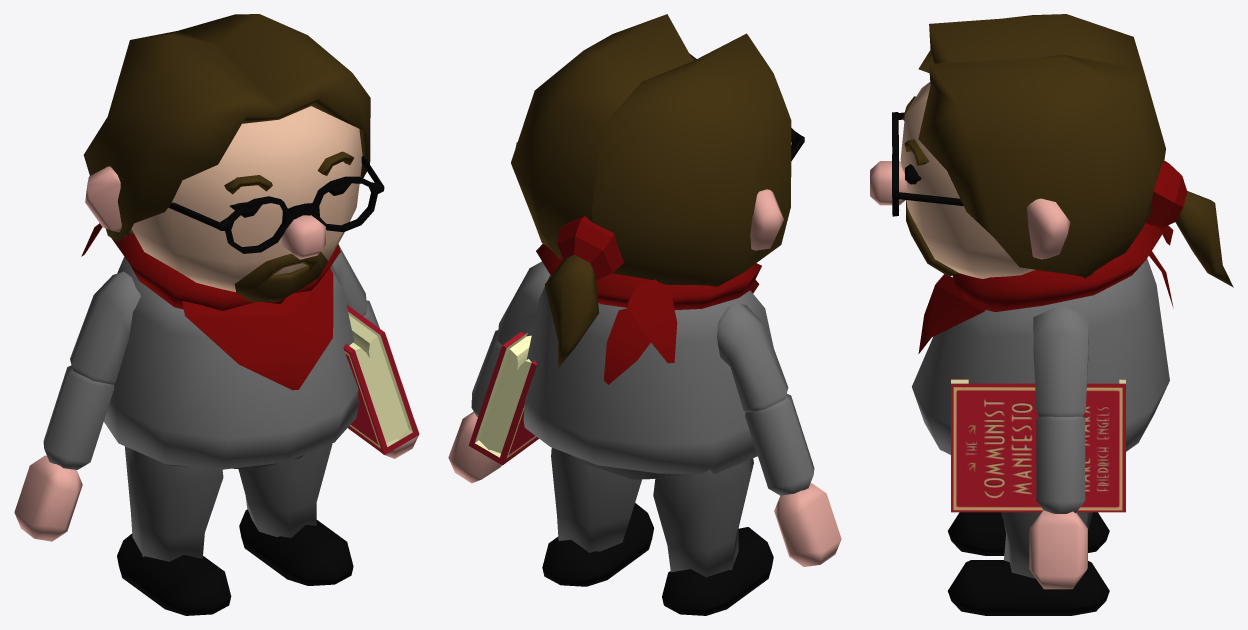
The model's file is CHAR_01_v7.fbx.
3 views of the same model, side by side, from view 1: azimuth 30°, elevation 25°; view 2: azimuth 150°, elevation 25°; view 3: azimuth 270°, elevation 25° (orthographic). The views are drawn at different scales.
Parts seen in each view (by area): view 1: m_cheveux01, m_tronc, m_tete, m_echarpe2, m_jambe_D, m_jambe_G, m_pied_D, m_pied_G, m_bras_D, m_avantbras_D, m_main_D, m_echarpe1 (+7 smaller); view 2: m_cheveux01, m_tronc, m_jambe_D, m_jambe_G, m_bras_D, m_pied_D, m_avantbras_D, m_pied_G, m_main_D, m_cheveux01b, m_echarpe1, book1couv (+9 smaller); view 3: m_cheveux01, m_tronc, book1couv, m_tete, m_pied_G, m_echarpe1, m_bras_G, m_avantbras_G, m_main_G, m_pied_D, m_cheveux01b, m_echarpe2 (+6 smaller).
Part boxes in pixels (x1,y1,x2,y2): m_cheveux01: (83, 14, 370, 242); m_tronc: (104, 257, 358, 469); m_tete: (131, 106, 362, 291); m_echarpe2: (182, 267, 333, 390); m_jambe_D: (124, 446, 223, 561); m_jambe_G: (238, 443, 332, 537); m_pied_D: (117, 533, 231, 615); m_pied_G: (239, 509, 353, 585); m_bras_D: (70, 271, 140, 384); m_avantbras_D: (43, 365, 114, 469); m_main_D: (14, 455, 82, 541); m_echarpe1: (112, 233, 340, 310); m_cheveux01: (511, 14, 791, 286); m_tronc: (523, 275, 773, 473); m_jambe_D: (653, 458, 753, 577); m_jambe_G: (551, 447, 641, 552); m_bras_D: (717, 302, 788, 412); m_pied_D: (662, 527, 773, 615); m_avantbras_D: (745, 394, 814, 495); m_pied_G: (542, 503, 653, 586); m_main_D: (774, 483, 841, 566); m_cheveux01b: (544, 254, 598, 368); m_echarpe1: (536, 244, 761, 309); book1couv: (468, 332, 531, 455); m_cheveux01: (918, 14, 1165, 278); m_tronc: (912, 258, 1169, 454); book1couv: (951, 383, 1125, 512); m_tete: (900, 82, 1035, 278); m_pied_G: (948, 560, 1109, 615); m_echarpe1: (952, 223, 1162, 311); m_bras_G: (1033, 305, 1088, 416); m_avantbras_G: (1036, 416, 1085, 513); m_main_G: (1029, 510, 1087, 589); m_pied_D: (948, 512, 1109, 555); m_cheveux01b: (1175, 191, 1233, 287); m_echarpe2: (918, 274, 988, 354).
Bounding box in the file's own units: 104 × 137 × 84.33.
